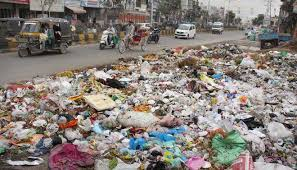garbage: (5, 84, 294, 170), (65, 70, 290, 170), (146, 54, 297, 161)
